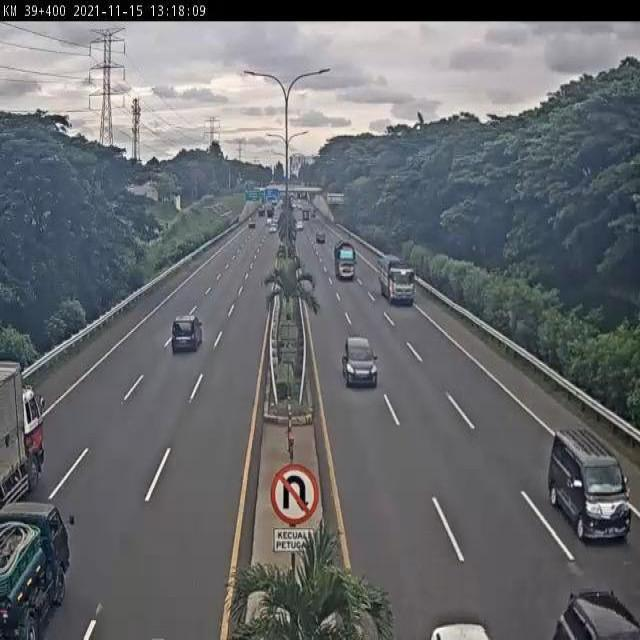car: (546, 424, 632, 543), (341, 335, 379, 389), (171, 312, 202, 353)
truck: (0, 490, 72, 640), (0, 357, 45, 507), (376, 254, 416, 306), (332, 239, 357, 281)
